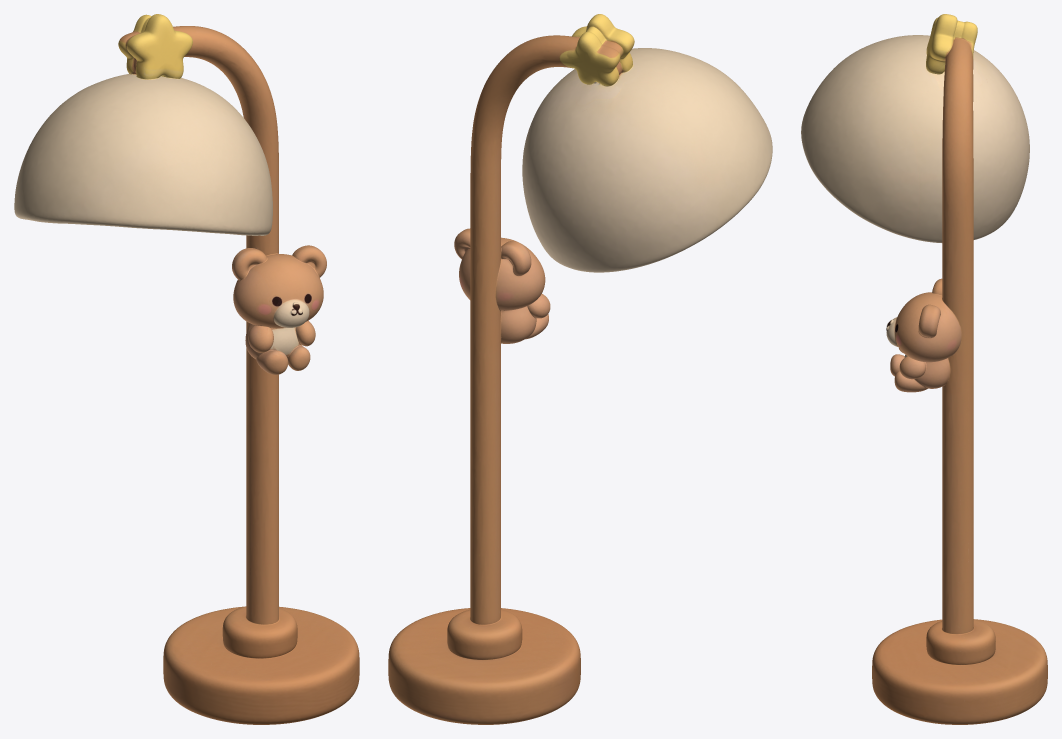
The model's file is bear-lamp.glb.
3 renders of one model, left to right at view 1: azimuth 30°, elevation 25°; view 2: azimuth 150°, elevation 25°; view 3: azimuth 270°, elevation 25°, orthographic. The views are drawn at different scales.
Bounding box in the file's own units: 0.9576 × 1.9 × 0.6763.
Materials: 1 (1 with a texture image).
